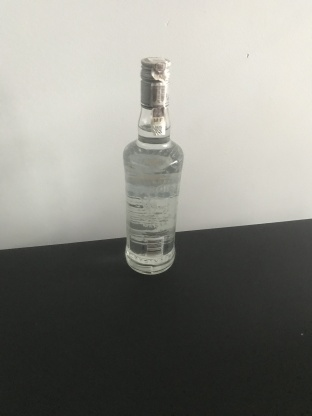nakretka: (138, 54, 172, 110)
